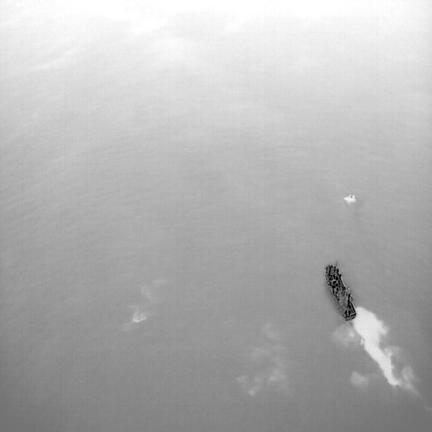flukeprints: (344, 195, 355, 202)
